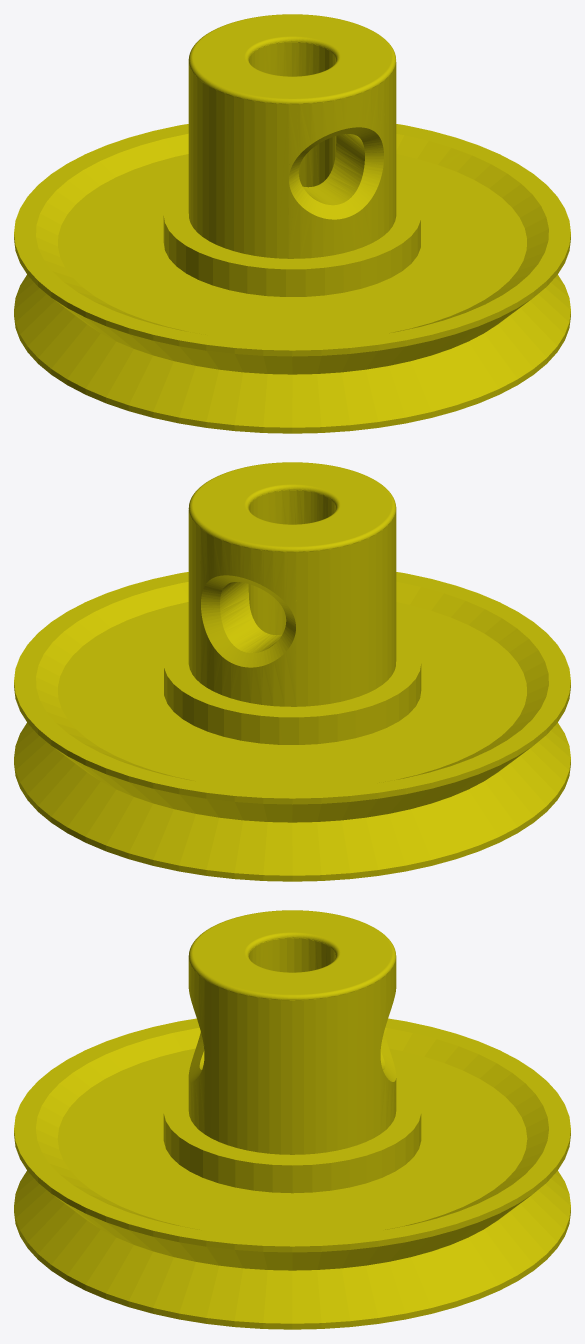
File: Pulley_S.glb
3 views of the same model, one above another, from view 1: azimuth 30°, elevation 25°; view 2: azimuth 150°, elevation 25°; view 3: azimuth 270°, elevation 25° (orthographic).
Parts seen in each view (by area): view 1: defaultobject; view 2: defaultobject; view 3: defaultobject.
Boxes of the visible parts, x1=… form: defaultobject: x1=14, y1=14, x2=570, y2=433; defaultobject: x1=14, y1=462, x2=570, y2=881; defaultobject: x1=14, y1=910, x2=570, y2=1329.
Bounding box in the file's own units: 63.5 × 34.86 × 63.5.
